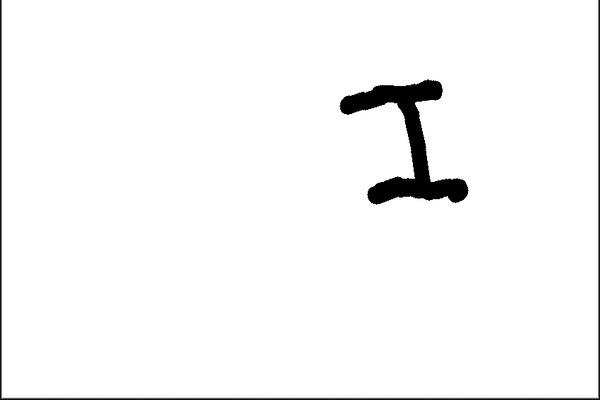i: (323, 65, 478, 225)
